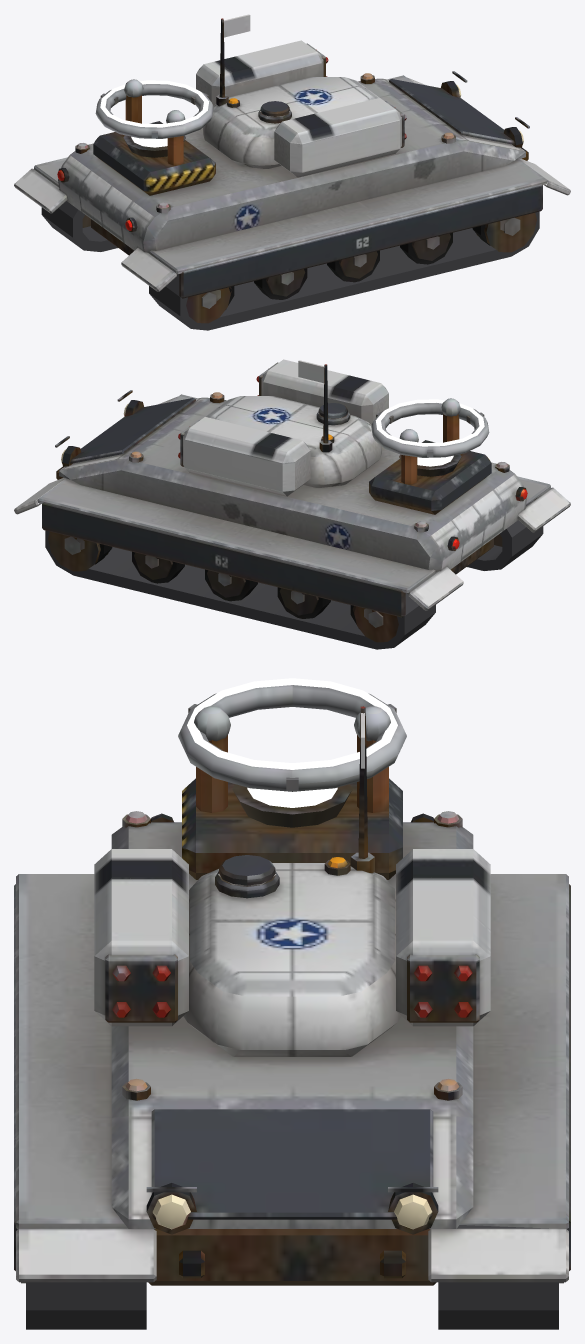
File: ctnk.allies.glb
3 renders of one model, top to bottom at view 1: azimuth 30°, elevation 25°; view 2: azimuth 150°, elevation 25°; view 3: azimuth 270°, elevation 25°, orthographic. The views are drawn at different scales.
Parts seen in each view (by area): view 1: root_mesh, turret_mesh, pod1_mesh, pod0_mesh, emitter_mesh; view 2: root_mesh, turret_mesh, pod0_mesh, pod1_mesh, emitter_mesh; view 3: root_mesh, turret_mesh, pod0_mesh, pod1_mesh, emitter_mesh.
Boxes of the visible parts, x1,y1,x2,y2 form: root_mesh: (14,71,570,330); turret_mesh: (203,14,379,168); pod1_mesh: (274,98,406,177); pod0_mesh: (196,40,328,105); emitter_mesh: (95,80,213,138); root_mesh: (14,390,570,649); turret_mesh: (205,360,381,487); pod0_mesh: (178,417,310,496); pod1_mesh: (256,359,388,424); emitter_mesh: (371,399,489,457); root_mesh: (14,706,570,1329); turret_mesh: (183,706,401,1056); pod0_mesh: (396,849,490,1026); pod1_mesh: (94,849,188,1026); emitter_mesh: (178,678,406,791).
Bounding box in the file's own units: 0.9169 × 0.47 × 0.554.
3 materials, 1 textured.
